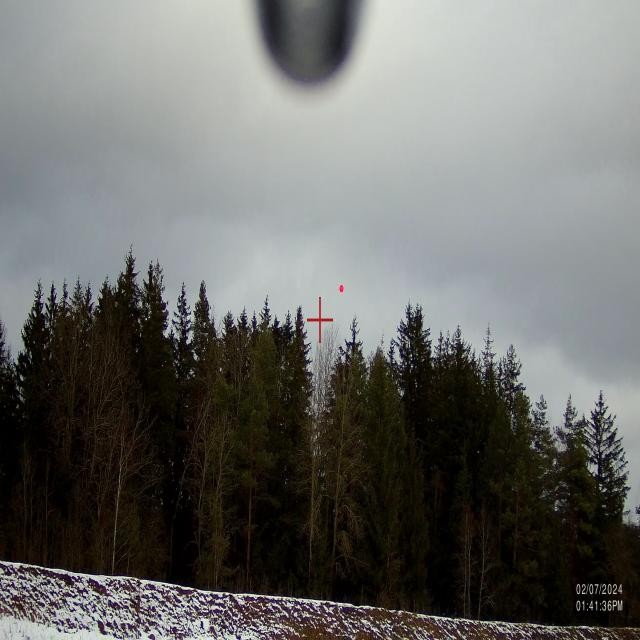entire: (337, 271, 346, 300)
